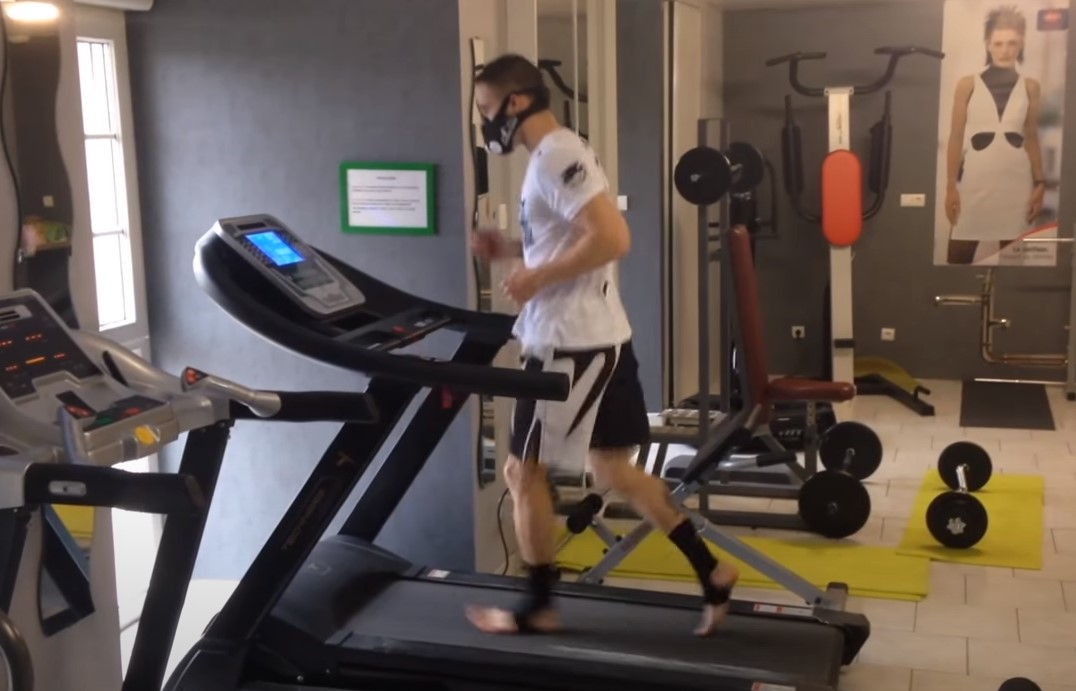face_with_mask: (471, 52, 553, 155)
